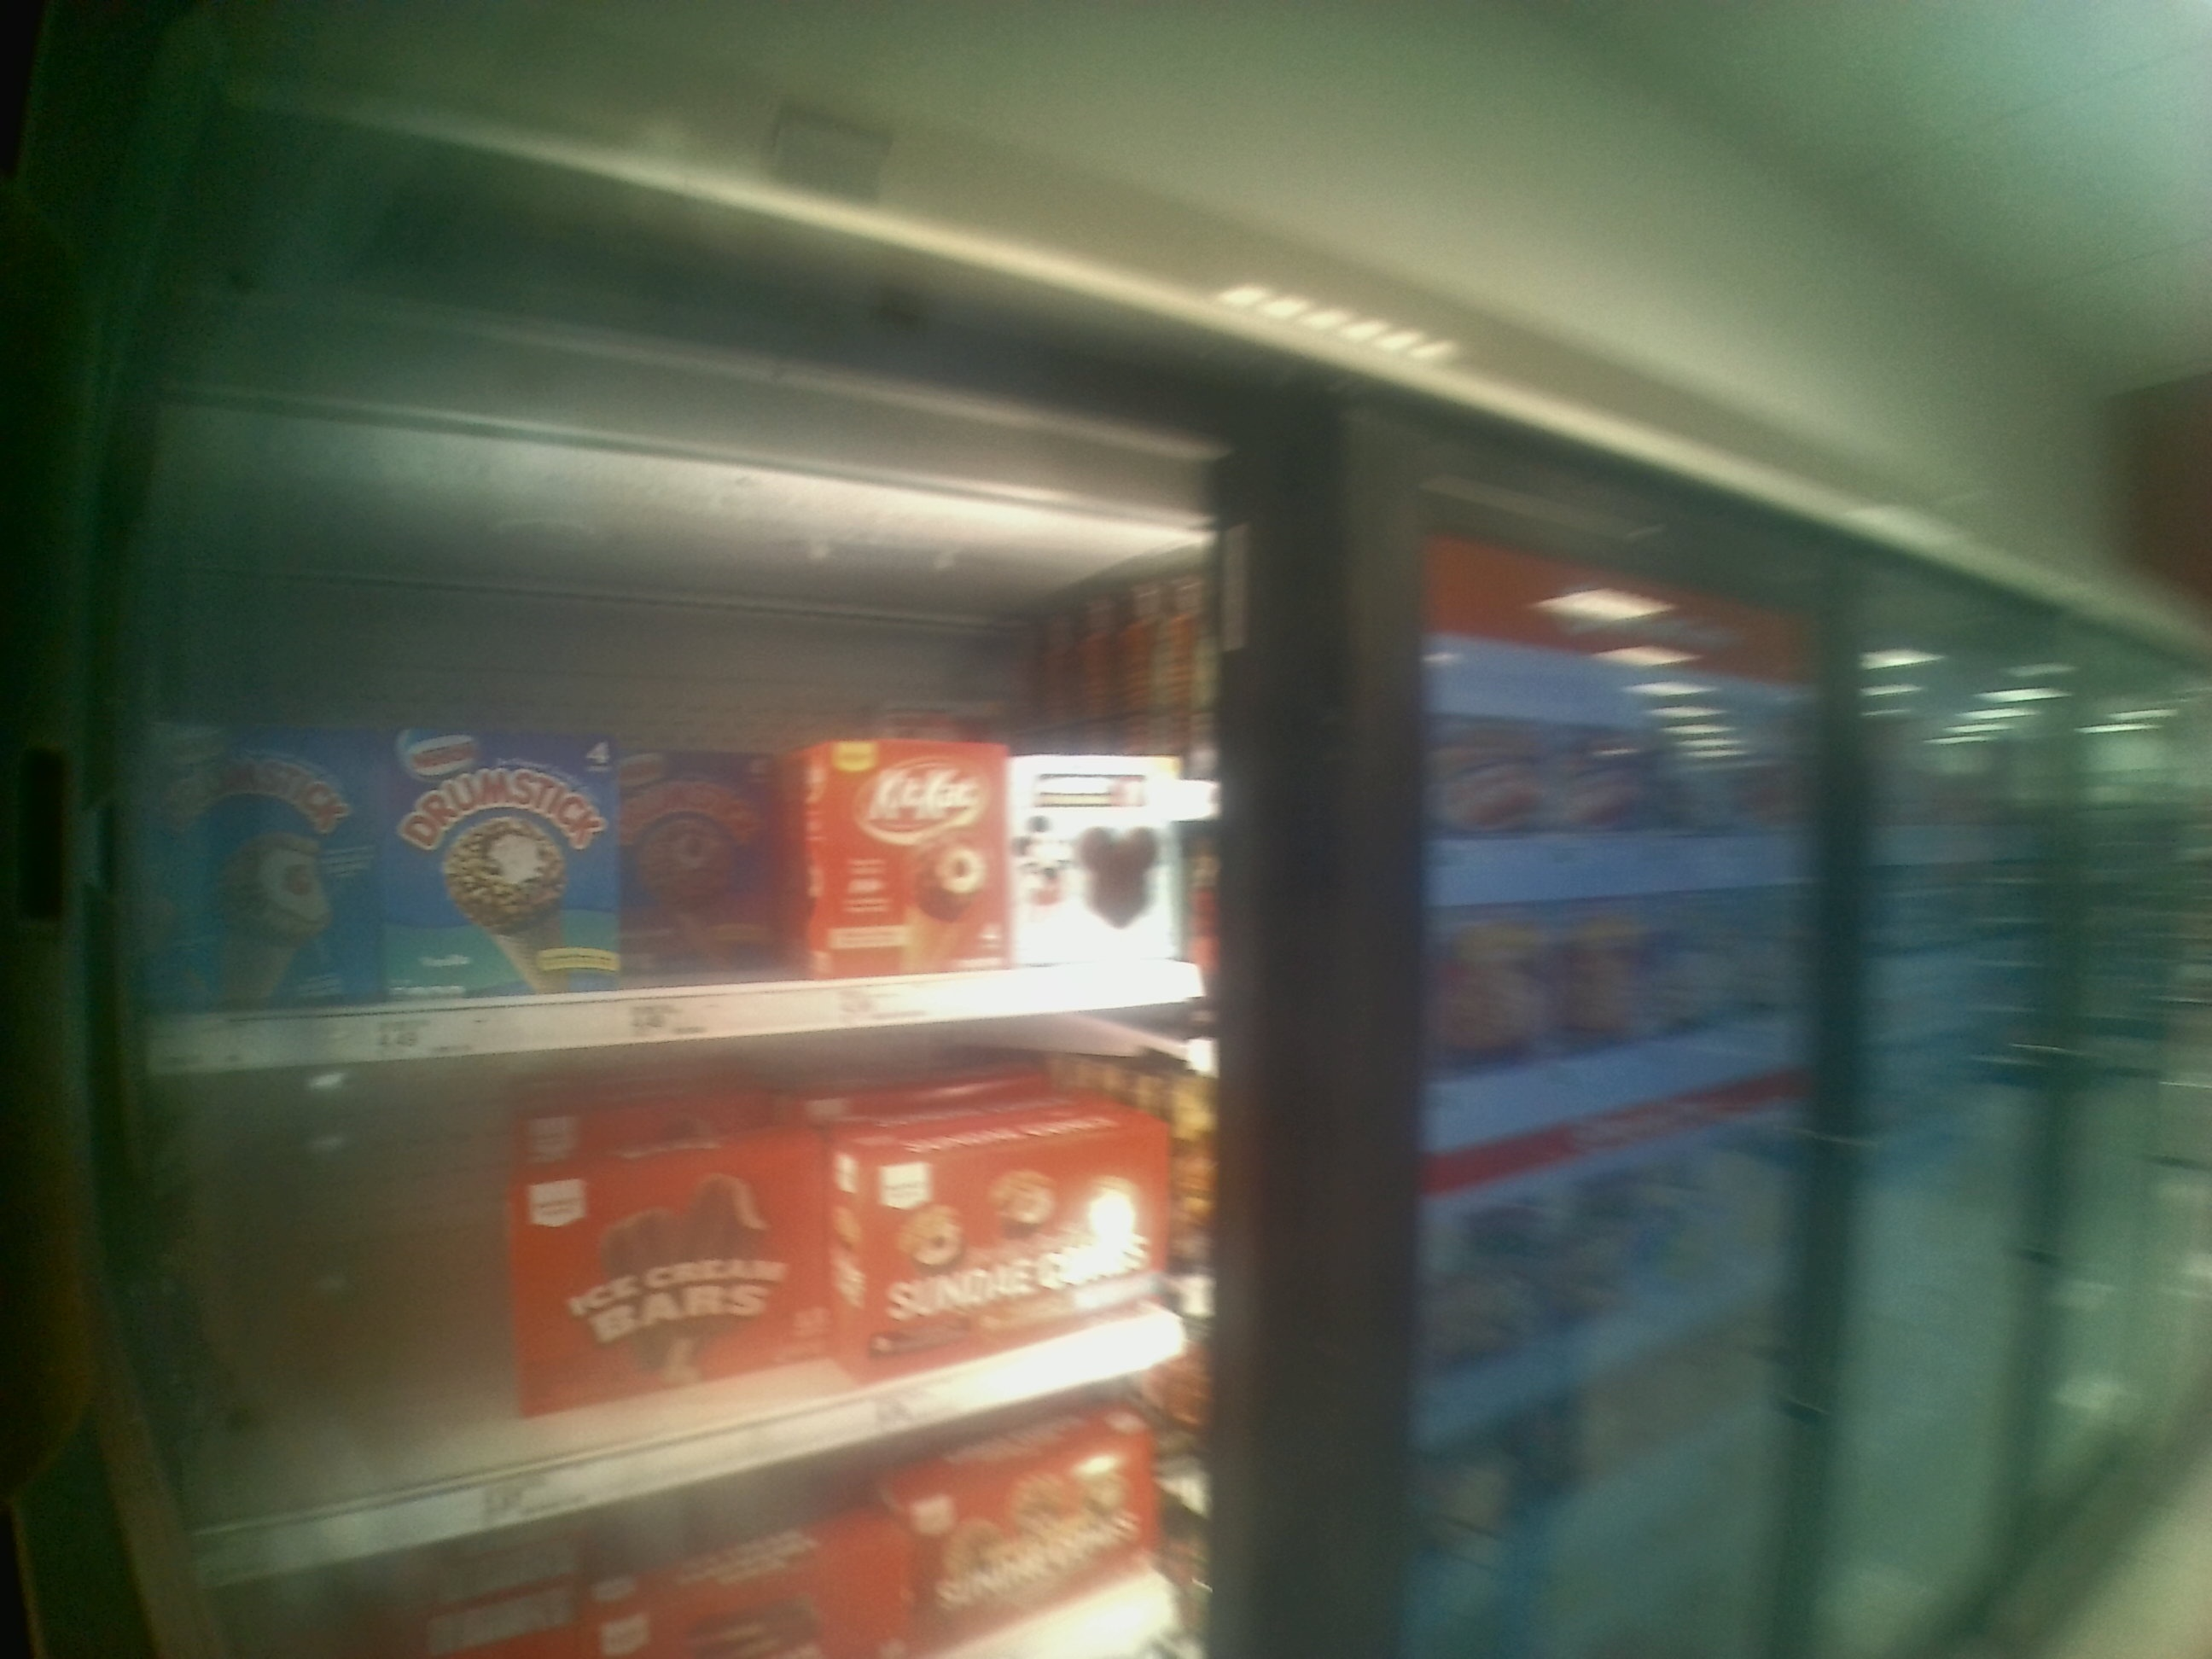shelf: (118, 985, 1237, 1577), (113, 636, 1254, 1065)
